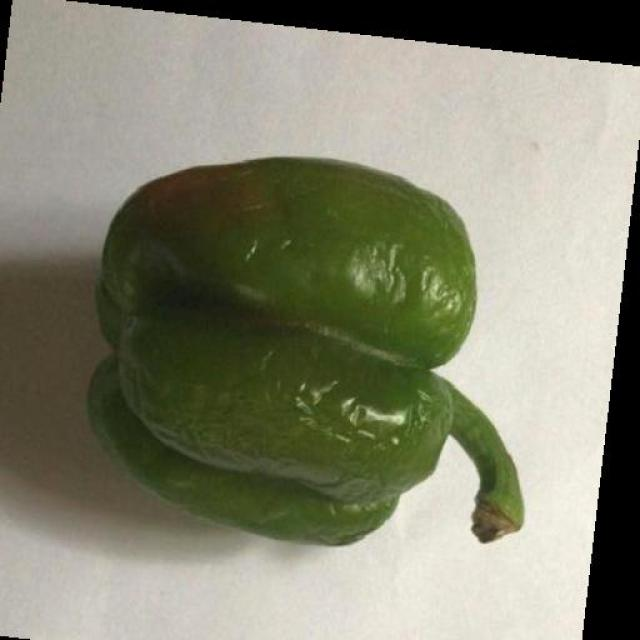Stale_Capsicum: (104, 148, 496, 530)
